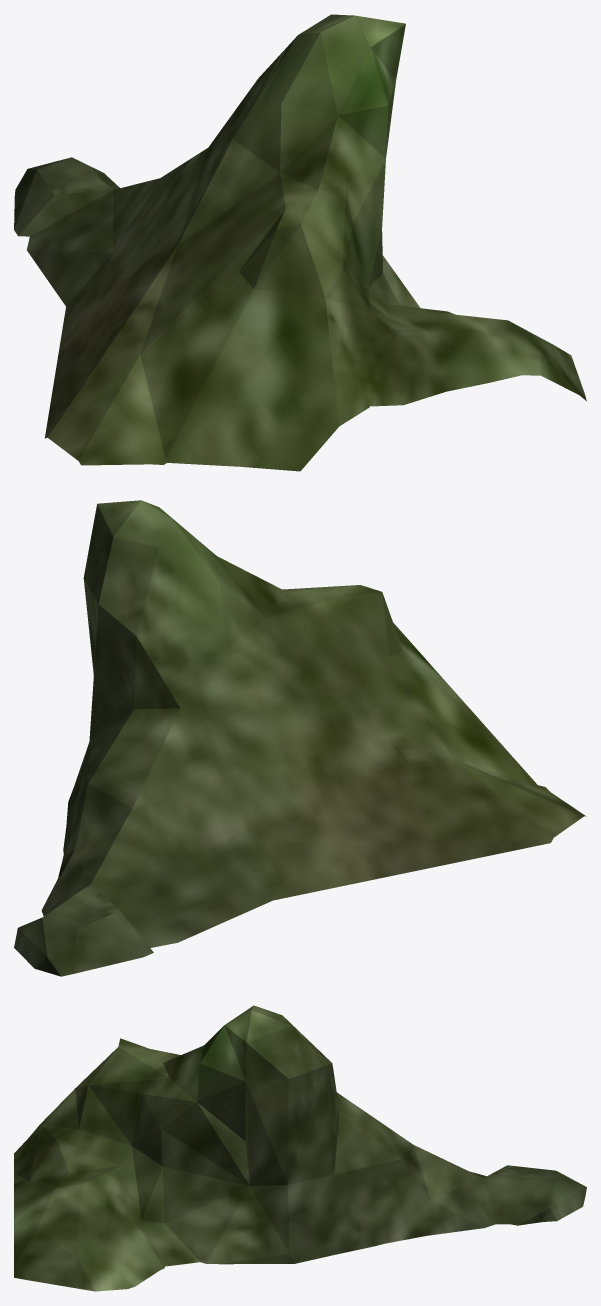
The picture shows the model from 3 angles, top to bottom: view 1: azimuth 30°, elevation 25°; view 2: azimuth 150°, elevation 25°; view 3: azimuth 270°, elevation 25°; orthographic projection. The views are drawn at different scales.
Size of the model in its own units: 0.8147 by 0.4807 by 1.06.
1 material, 1 textured.
